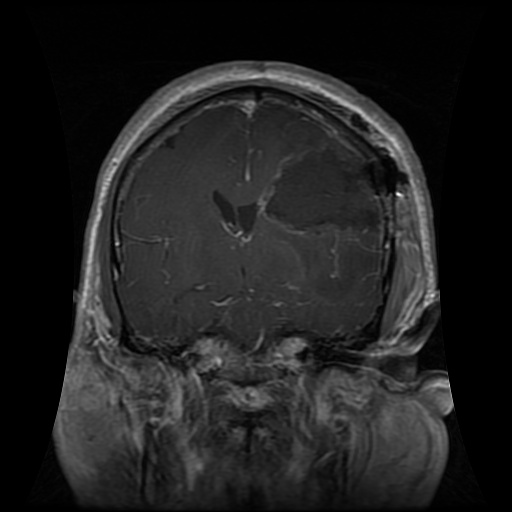glioma: (256, 138, 382, 236)
